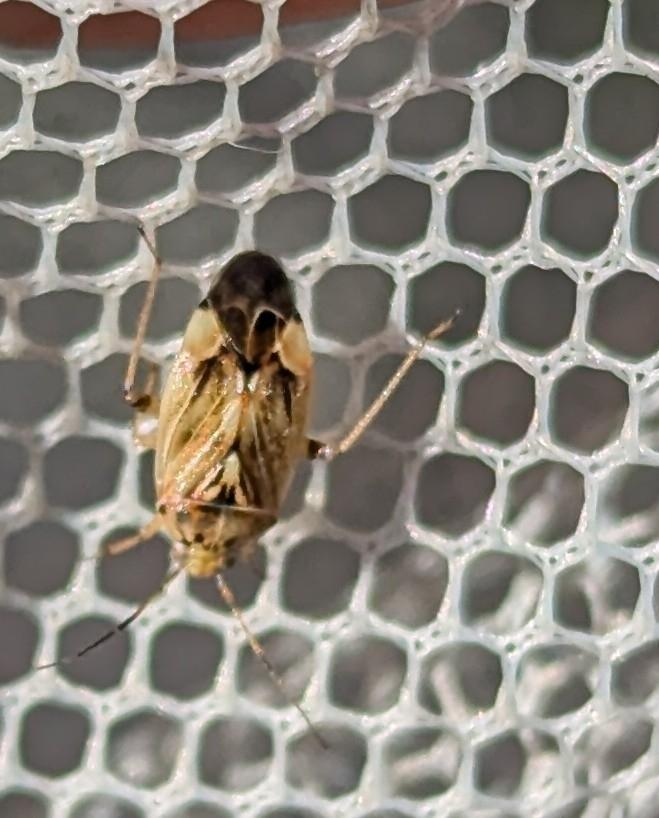plant_bugs: (0, 133, 580, 789)
